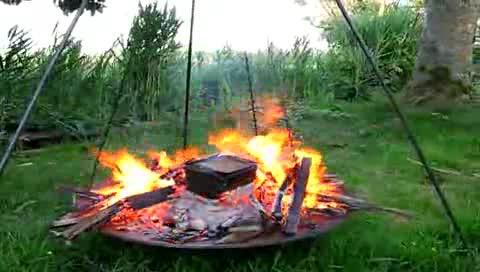fire: (109, 128, 322, 207)
